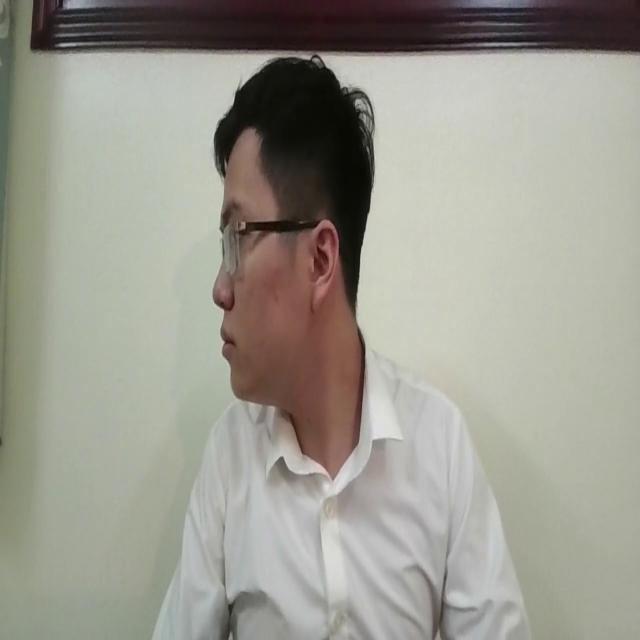student: (129, 46, 533, 640)
